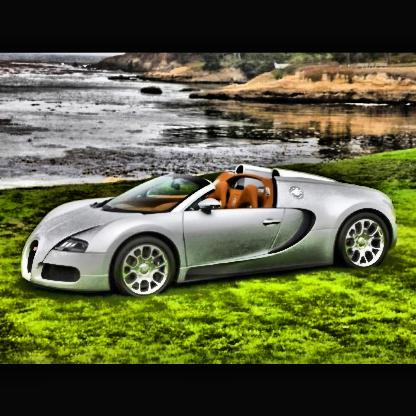Bugatti Veyron 16-4 Convertible 2009: (22, 166, 396, 298)
